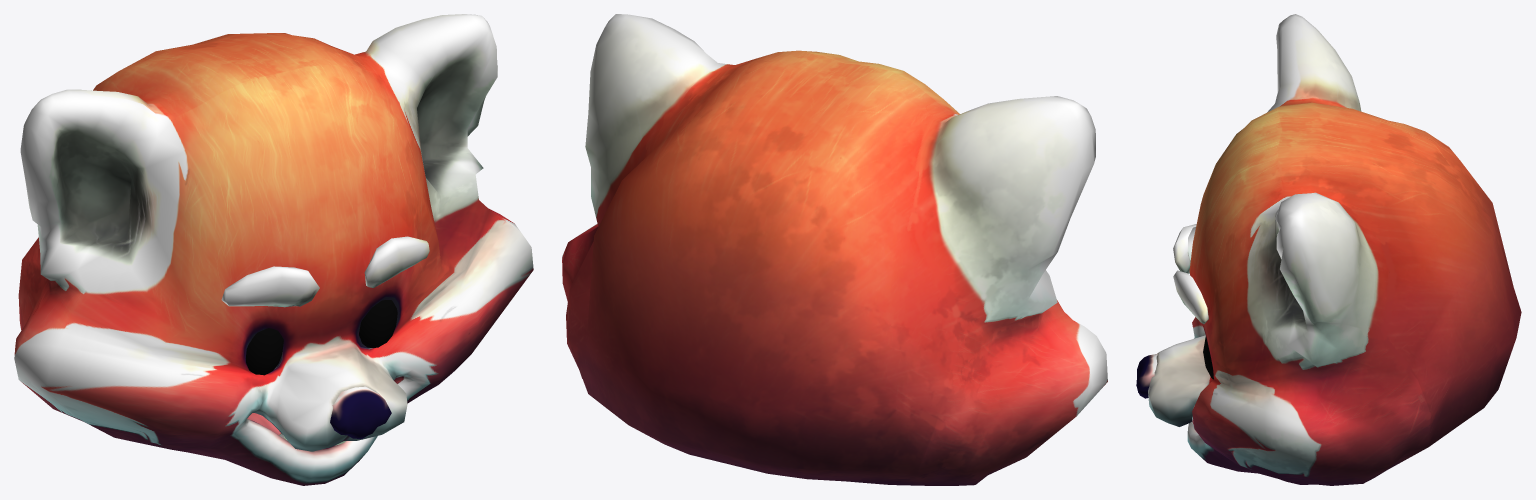
Rendered from Panda.glb.
The picture shows the model from 3 angles, left to right: view 1: azimuth 30°, elevation 25°; view 2: azimuth 150°, elevation 25°; view 3: azimuth 270°, elevation 25°; orthographic projection. The views are drawn at different scales.
Parts seen in each view (by area): view 1: Panda, EyeL.001, EyeR.001; view 2: Panda; view 3: Panda.
Part boxes in pixels (box(x1,y1,x2,y2)): Panda: box(14, 14, 533, 485); EyeL.001: box(246, 328, 283, 375); EyeR.001: box(359, 300, 397, 347); Panda: box(562, 14, 1107, 485); Panda: box(1136, 14, 1521, 485).
Size of the model in its own units: 2.84 by 2.22 by 2.18.
2 materials, 1 textured.
